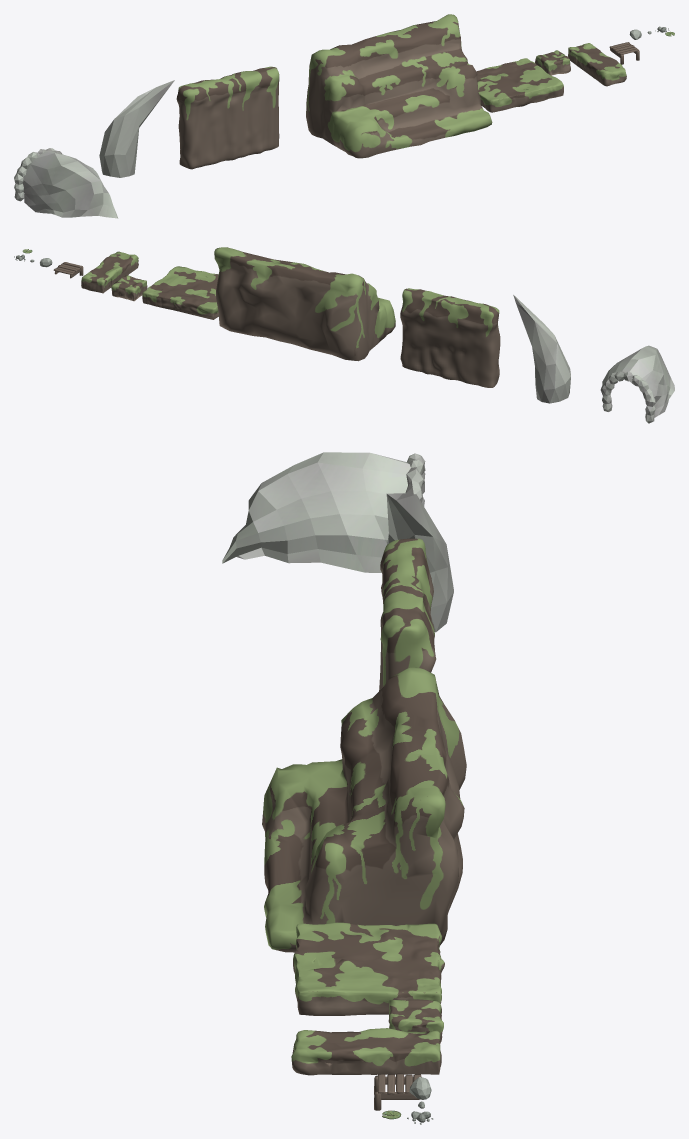
Rendered from cueva.glb.
The picture shows the model from 3 angles, top to bottom: view 1: azimuth 30°, elevation 25°; view 2: azimuth 150°, elevation 25°; view 3: azimuth 270°, elevation 25°; orthographic projection. The views are drawn at different scales.
Parts seen in each view (by area): view 1: montaña_escalonada, muro, cueva, suelo_bloque.001, pico, suelo_largo, suelo_bloque, pasarela; view 2: montaña_escalonada, muro, cueva, suelo_bloque.001, pico, suelo_largo, suelo_bloque, pasarela; view 3: montaña_escalonada, cueva, suelo_bloque.001, muro, suelo_largo, pico, suelo_bloque, pasarela.
Part boxes in pixels (left/top/right/bottom): montaña_escalonada: left=306, top=14, right=492, bottom=158; muro: left=176, top=66, right=279, bottom=169; cueva: left=14, top=148, right=118, bottom=218; suelo_bloque.001: left=476, top=58, right=563, bottom=112; pico: left=99, top=80, right=174, bottom=177; suelo_largo: left=568, top=43, right=626, bottom=86; suelo_bloque: left=535, top=50, right=570, bottom=75; pasarela: left=609, top=42, right=639, bottom=64; montaña_escalonada: left=214, top=247, right=395, bottom=361; muro: left=400, top=288, right=500, bottom=387; cueva: left=600, top=345, right=674, bottom=423; suelo_bloque.001: left=142, top=266, right=218, bottom=319; pico: left=513, top=295, right=570, bottom=403; suelo_largo: left=81, top=251, right=138, bottom=293; suelo_bloque: left=111, top=275, right=147, bottom=301; pasarela: left=53, top=262, right=83, bottom=278; montaña_escalonada: left=262, top=667, right=466, bottom=952; cueva: left=222, top=452, right=425, bottom=572; suelo_bloque.001: left=293, top=922, right=444, bottom=1015; muro: left=379, top=538, right=436, bottom=690; suelo_largo: left=291, top=1028, right=441, bottom=1075; pico: left=386, top=493, right=453, bottom=632; suelo_bloque: left=388, top=1000, right=443, bottom=1043; pasarela: left=374, top=1073, right=421, bottom=1110.
Size of the model in its own units: 154 by 21.43 by 25.43.
Materials: 12 (12 with a texture image).
